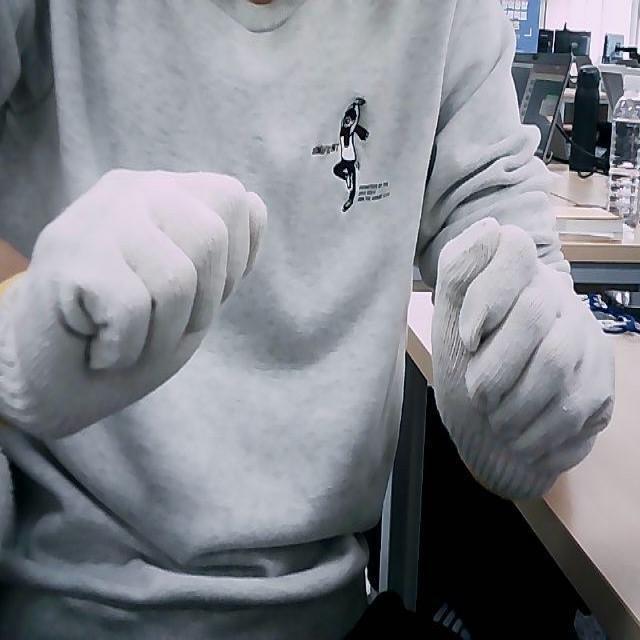GLOVE: (0, 167, 270, 440), (430, 216, 618, 504)
